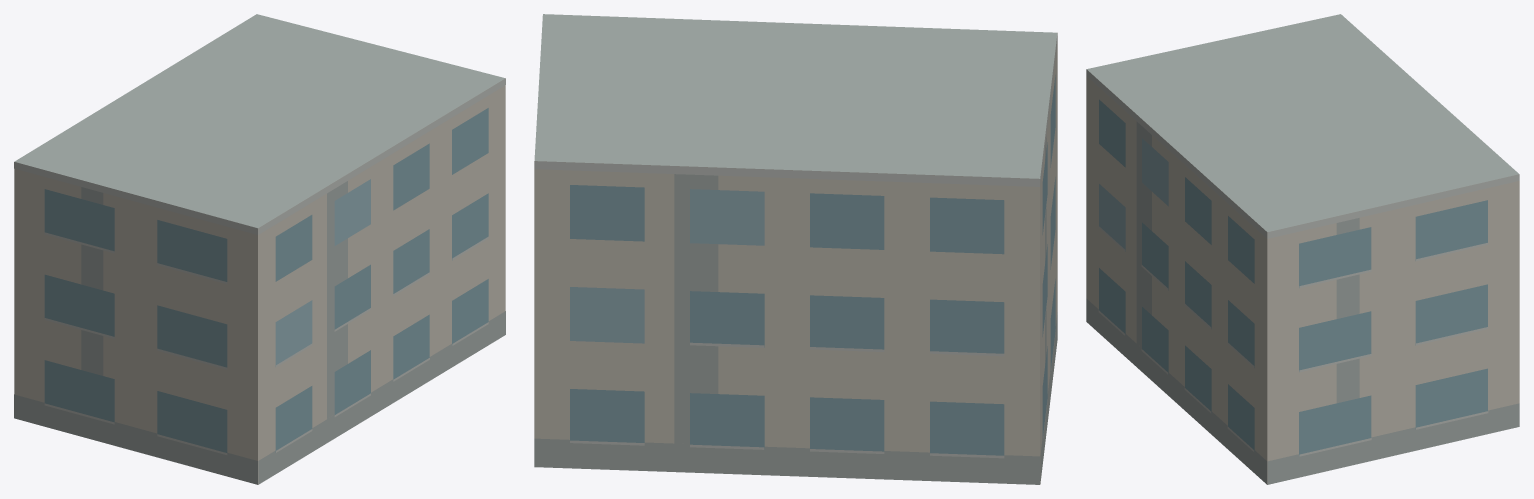
File: survey-upis-32775081.glb
3 renders of one model, left to right at view 1: azimuth 30°, elevation 25°; view 2: azimuth 150°, elevation 25°; view 3: azimuth 270°, elevation 25°, orthographic. The views are drawn at different scales.
Visible parts, largest first — view 1: survey-upis-32775081.tmp; view 2: survey-upis-32775081.tmp; view 3: survey-upis-32775081.tmp.
Part boxes in pixels (left/top/right/bottom): survey-upis-32775081.tmp: left=14, top=14, right=505, bottom=484; survey-upis-32775081.tmp: left=534, top=14, right=1057, bottom=484; survey-upis-32775081.tmp: left=1086, top=14, right=1519, bottom=484.
Size of the model in its own units: 16.96 by 9.15 by 14.23.
